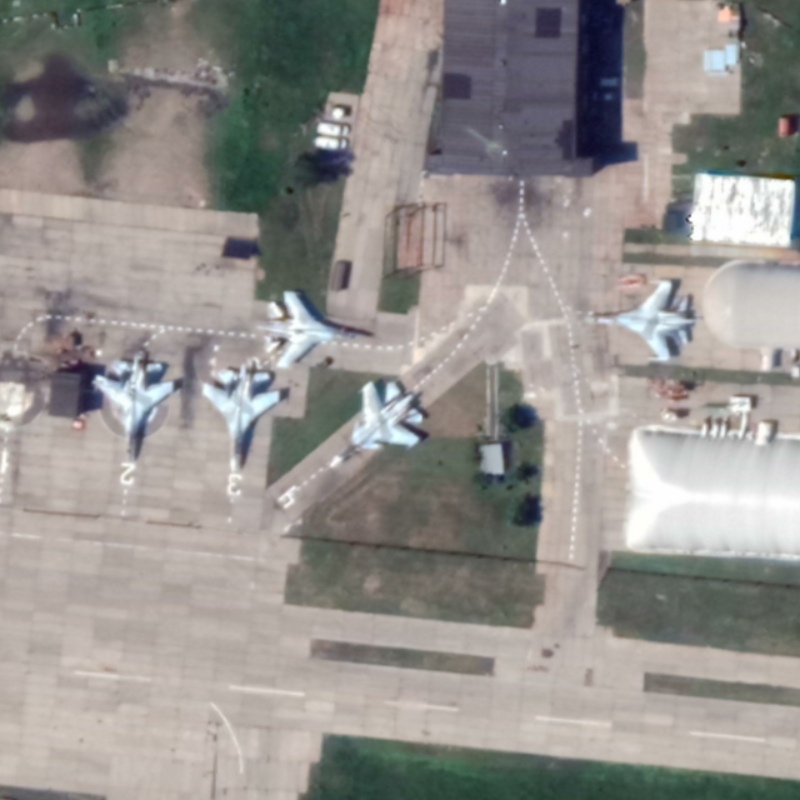A1: (580, 277, 701, 364), (251, 286, 373, 372), (88, 352, 178, 465), (196, 361, 281, 477)
A19: (326, 378, 425, 471)
